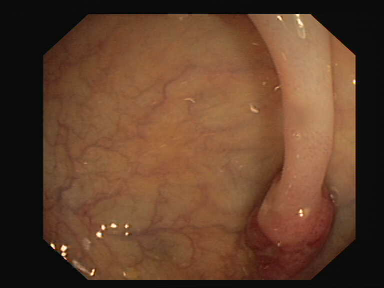polyp: (235, 137, 350, 257)
